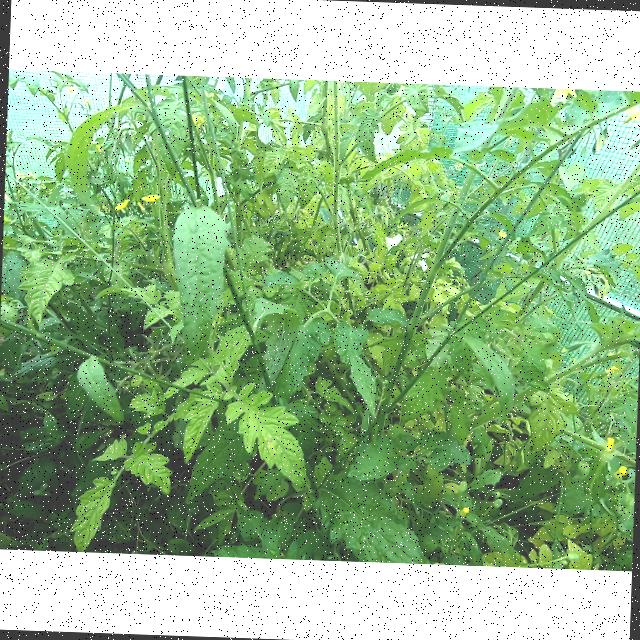Flowers: (554, 88, 578, 103), (624, 106, 640, 127), (191, 111, 207, 128), (140, 192, 160, 202), (114, 198, 128, 212), (496, 228, 506, 238), (66, 86, 78, 94), (16, 171, 26, 180), (27, 172, 35, 180)
